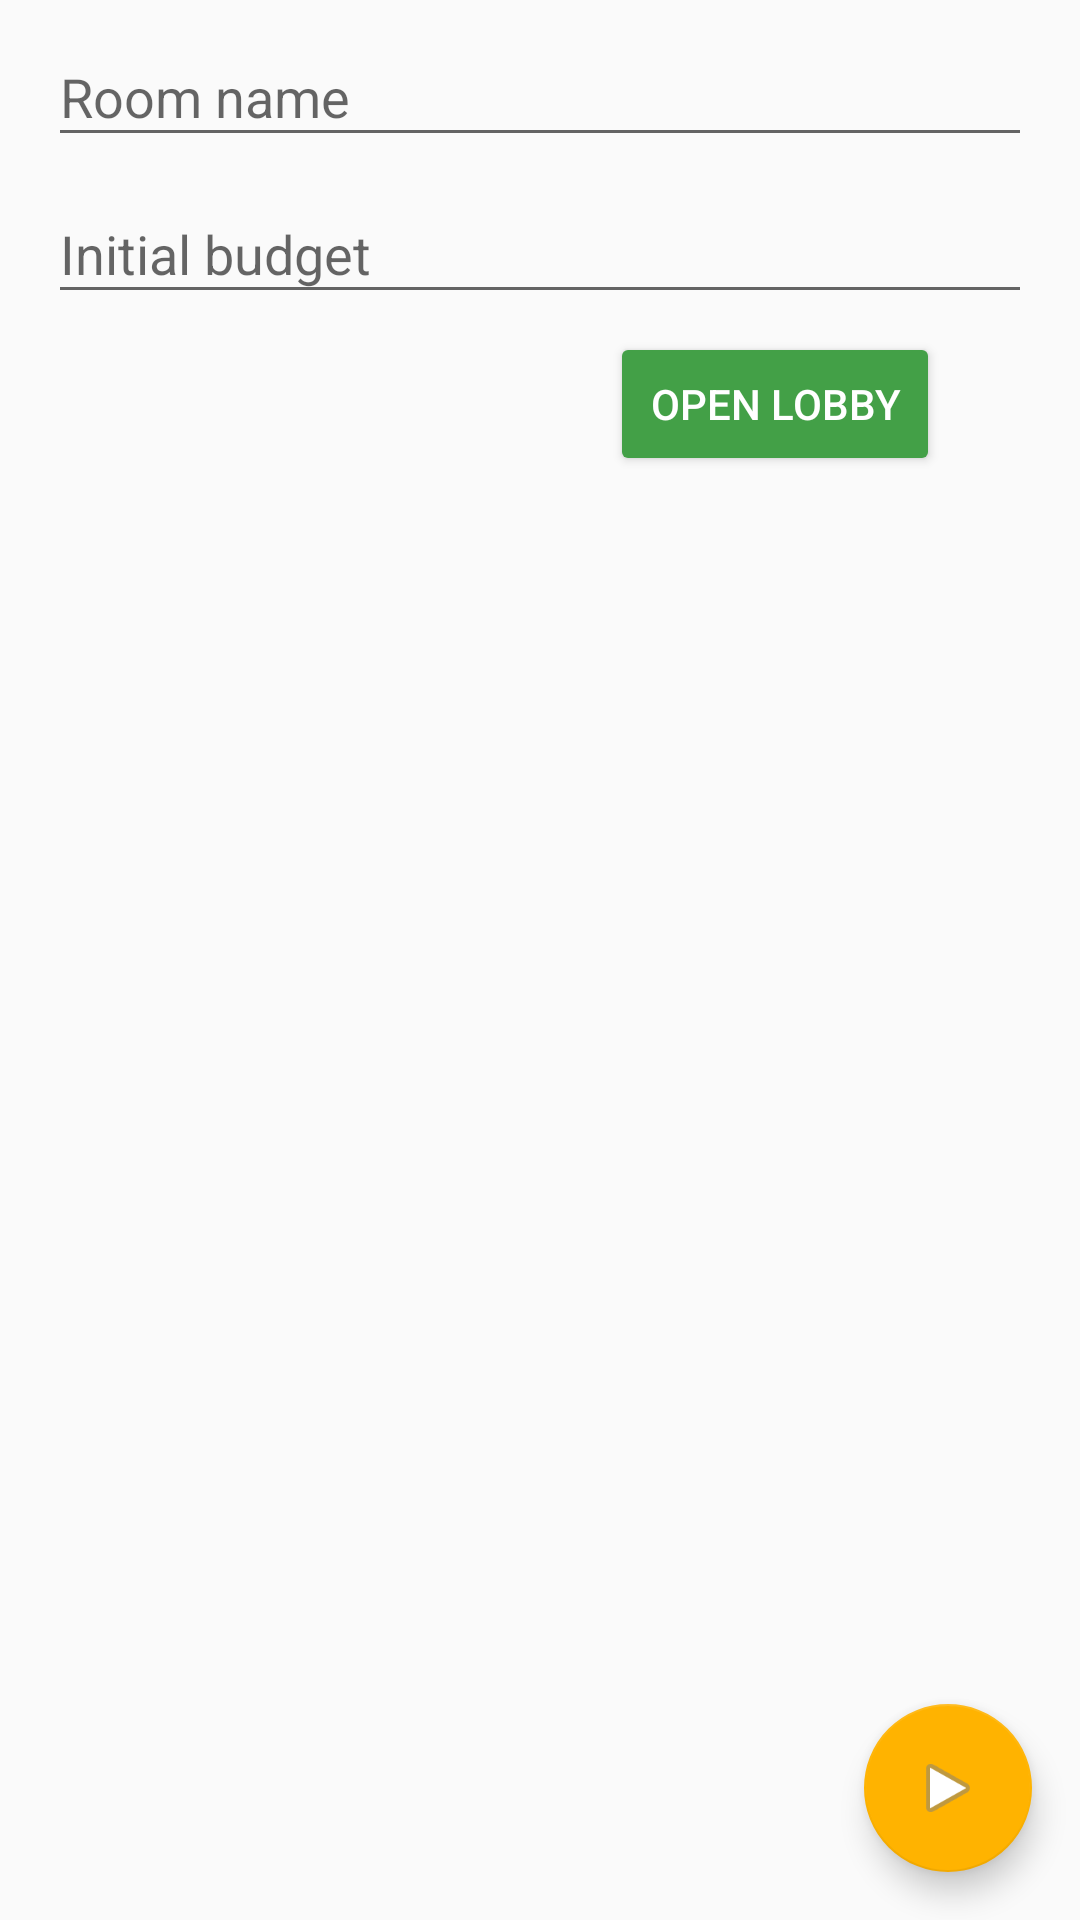

Named icons in this screenshot (1080w x 1920h) and their bounding boxes, (left=x1, top=y1, right=x2, bottom=y2):
play: (left=864, top=1704, right=1032, bottom=1872)
